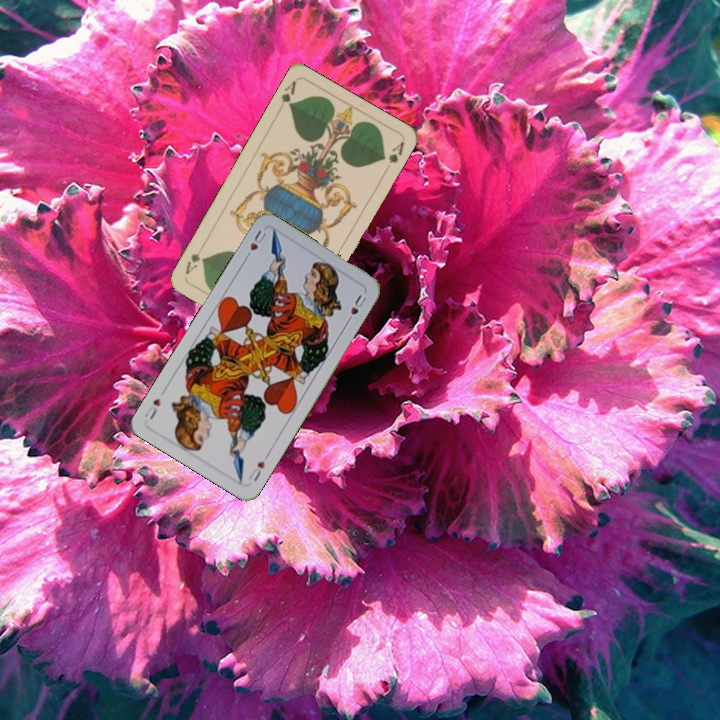GA: (277, 76, 300, 110)
HU: (241, 226, 269, 262), (245, 456, 268, 484)
